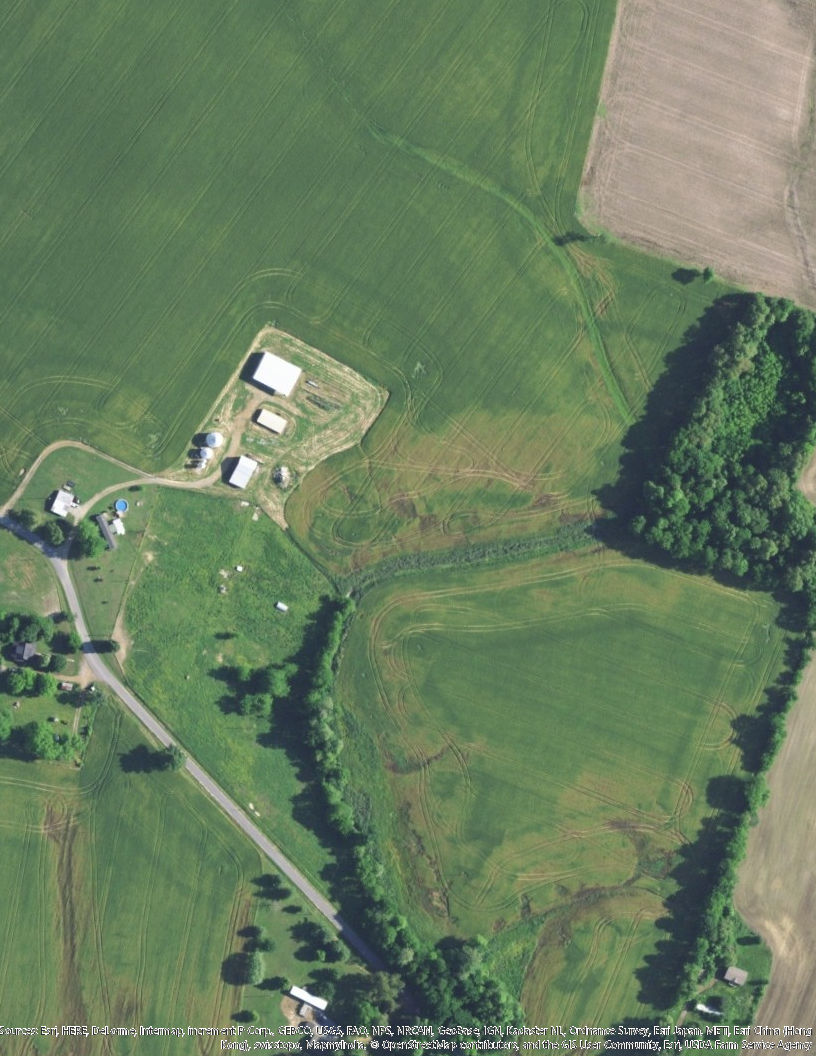cafo: (230, 455, 258, 488)
